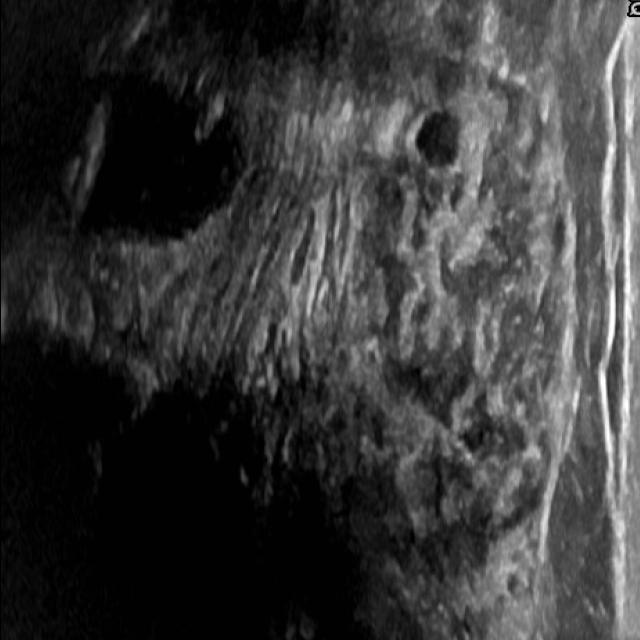Benign: (410, 111, 466, 178)
